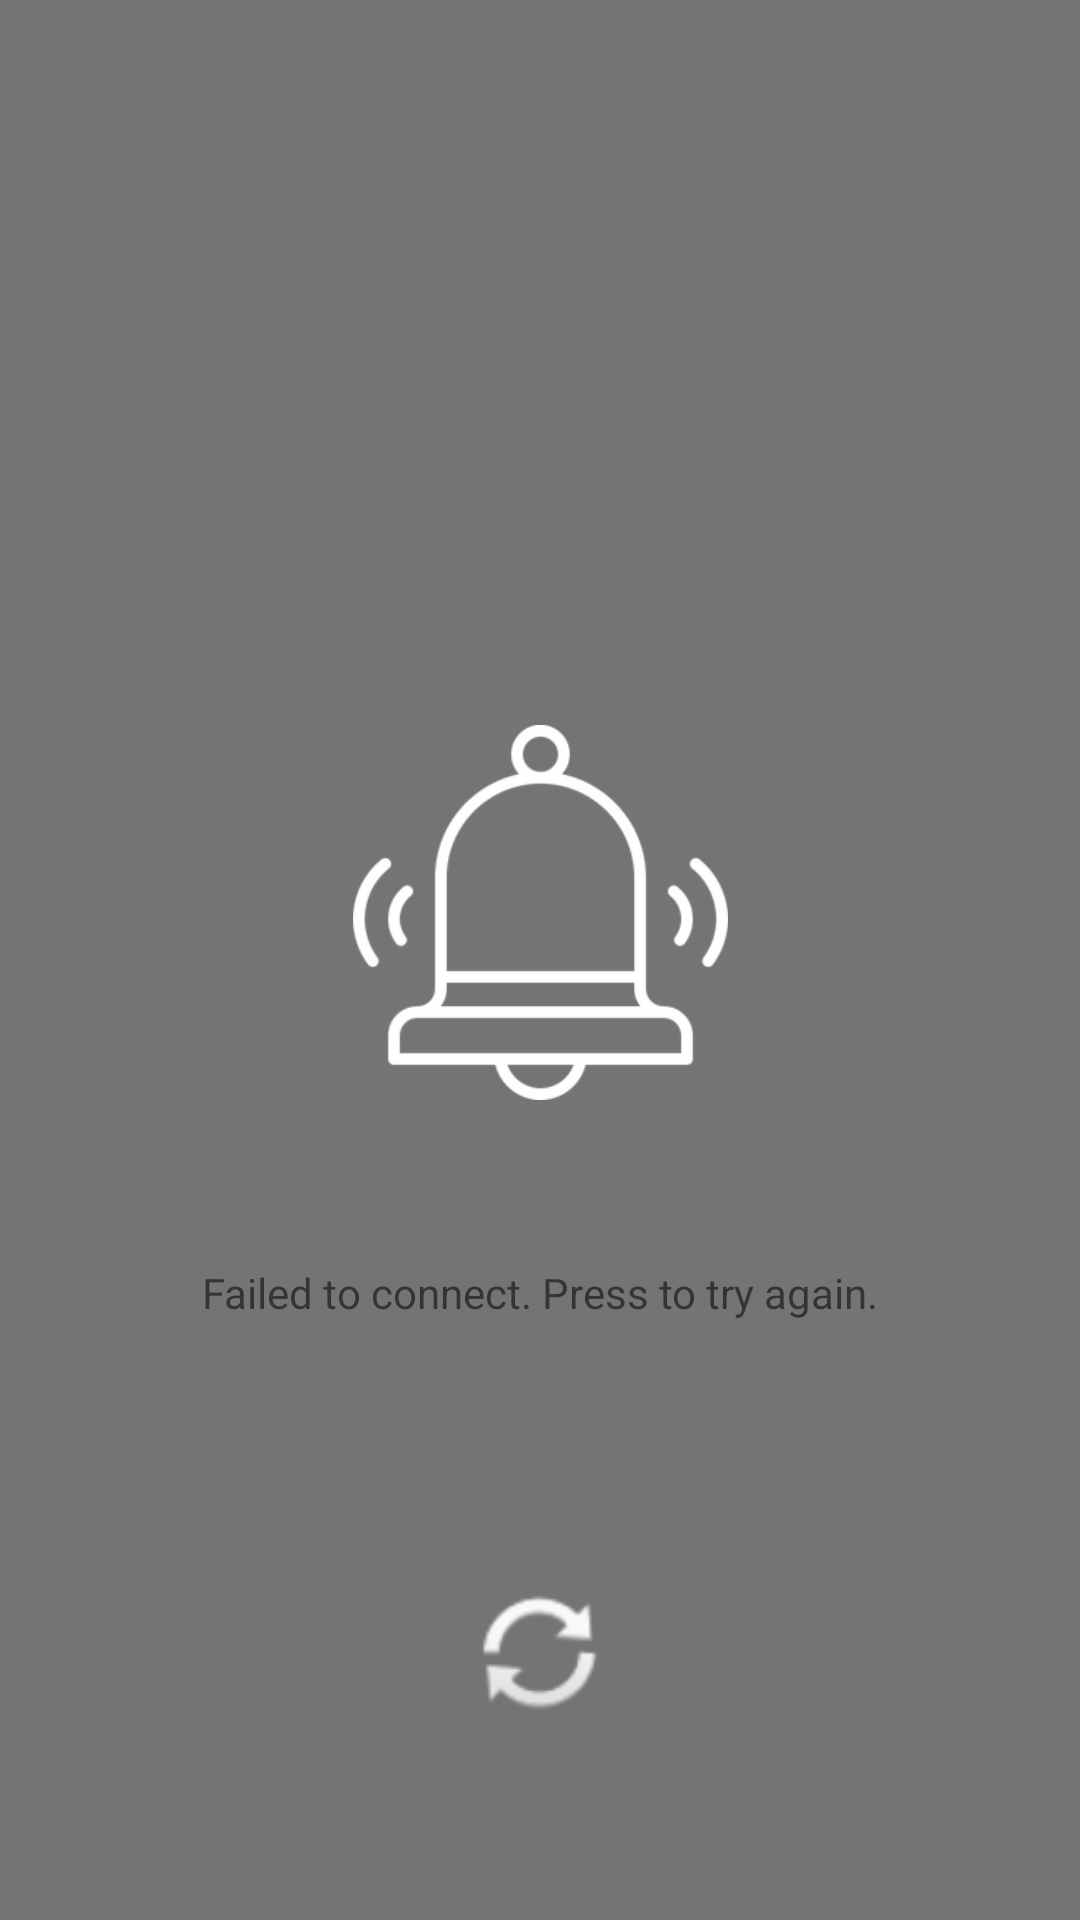

Icons on this 1080w x 1920h Android screen, each with the point to tap as point (x, y):
popup sync: point (539, 1652)
